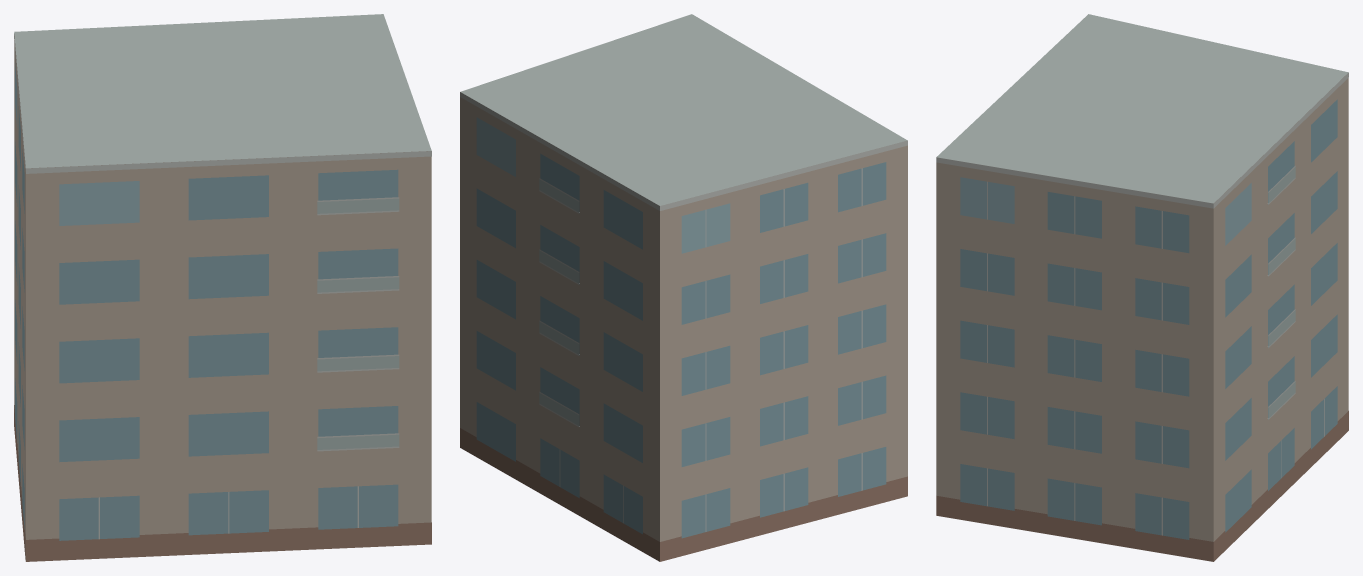
The model's file is survey-upis-32489782.glb.
3 renders of one model, left to right at view 1: azimuth 30°, elevation 25°; view 2: azimuth 150°, elevation 25°; view 3: azimuth 270°, elevation 25°, orthographic. The views are drawn at different scales.
Parts seen in each view (by area): view 1: survey-upis-32489782.tmp; view 2: survey-upis-32489782.tmp; view 3: survey-upis-32489782.tmp.
Boxes of the visible parts, x1,y1,x2,y2 form: survey-upis-32489782.tmp: [14, 14, 431, 561]; survey-upis-32489782.tmp: [460, 14, 907, 561]; survey-upis-32489782.tmp: [936, 14, 1348, 561].
Bounding box in the file's own units: 19.44 × 17.13 × 17.88.
